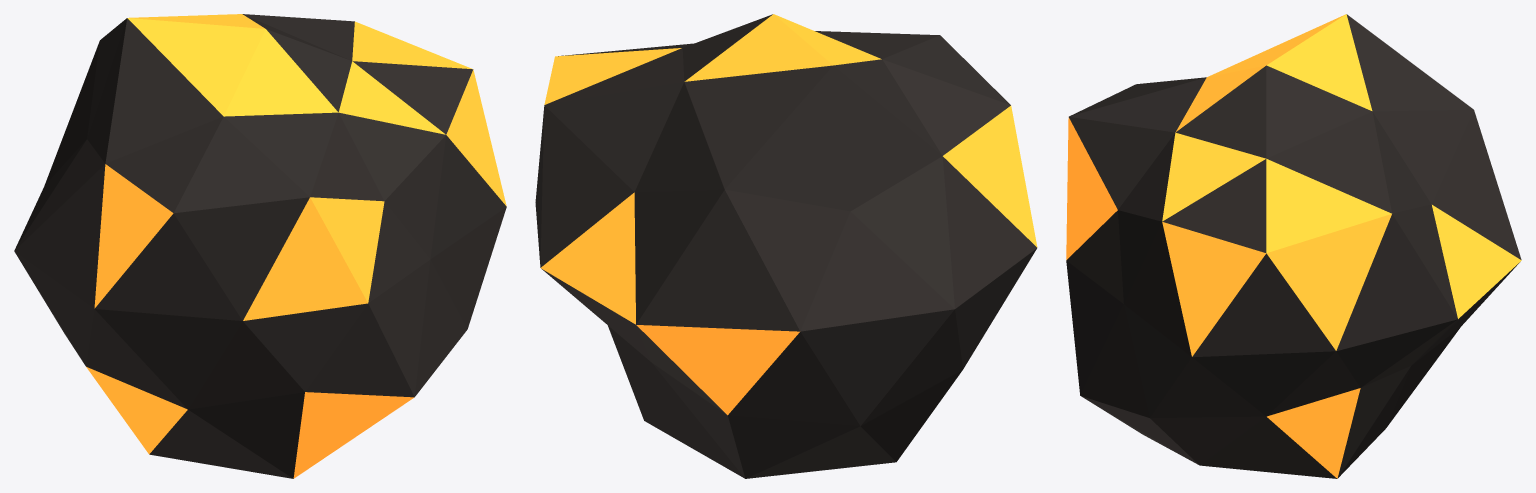
Rendered from meteor.glb.
3 views of the same model, side by side, from view 1: azimuth 30°, elevation 25°; view 2: azimuth 150°, elevation 25°; view 3: azimuth 270°, elevation 25° (orthographic). The views are drawn at different scales.
Visible parts, largest first — view 1: meteor_rock; view 2: meteor_rock; view 3: meteor_rock.
Boxes of the visible parts, x1,y1,x2,y2 form: meteor_rock: (14,14,506,478); meteor_rock: (535,14,1037,478); meteor_rock: (1066,14,1521,478).
Bounding box in the file's own units: 1.07 × 0.9754 × 1.02.
